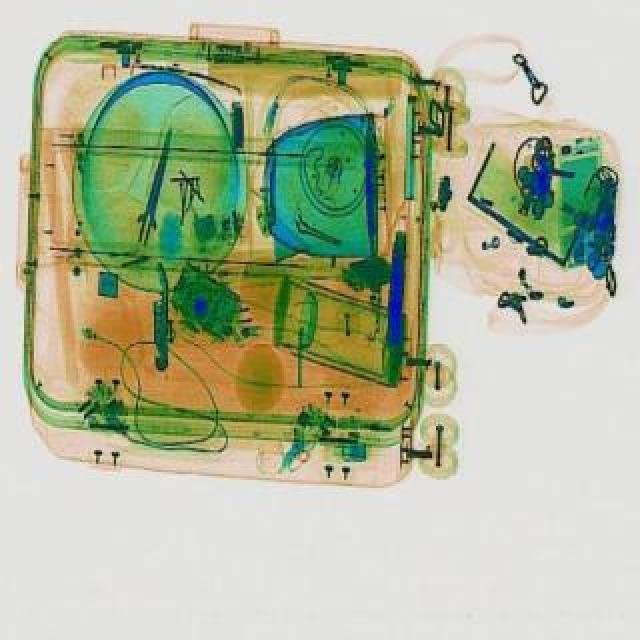knife: (130, 130, 182, 250)
